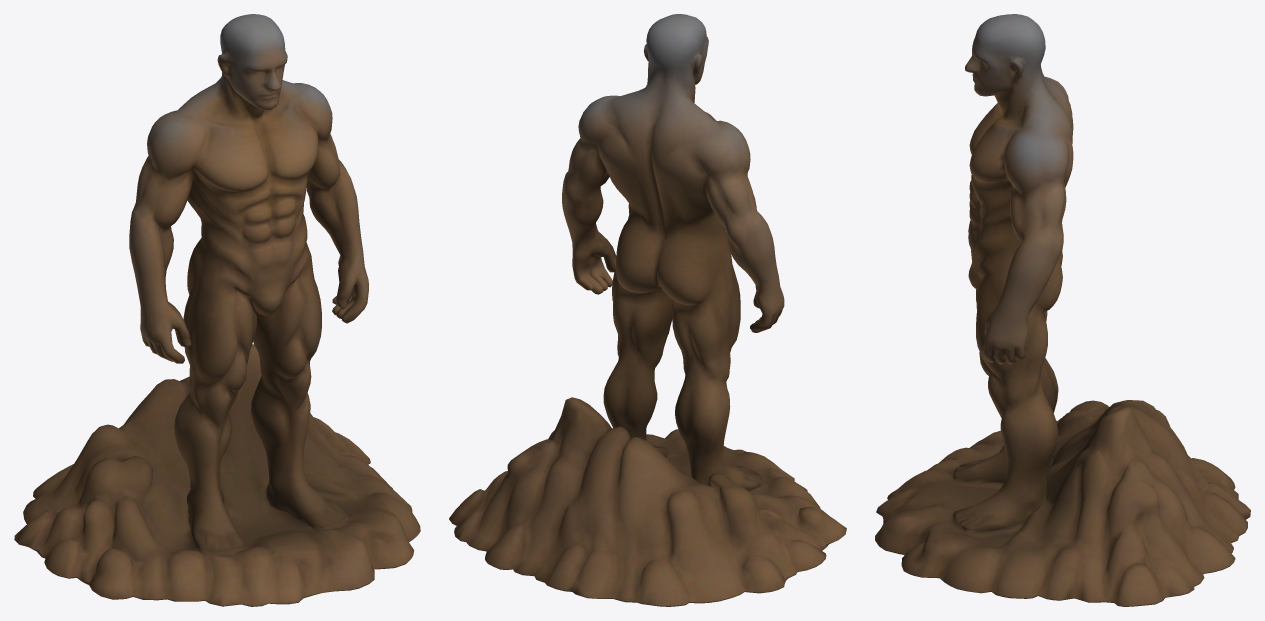
File: rocky_outcrop_90599d8a_v2.glb
3 renders of one model, left to right at view 1: azimuth 30°, elevation 25°; view 2: azimuth 150°, elevation 25°; view 3: azimuth 270°, elevation 25°, orthographic. The views are drawn at different scales.
Visible parts, largest first — view 1: material; view 2: material; view 3: material.
Boxes of the visible parts, box(x1,y1,x2,y2) form: material: box(14, 14, 420, 606); material: box(449, 14, 846, 606); material: box(875, 14, 1250, 606).
Size of the model in its own units: 1.33 by 1.9 by 1.27.
1 material, 1 textured.
